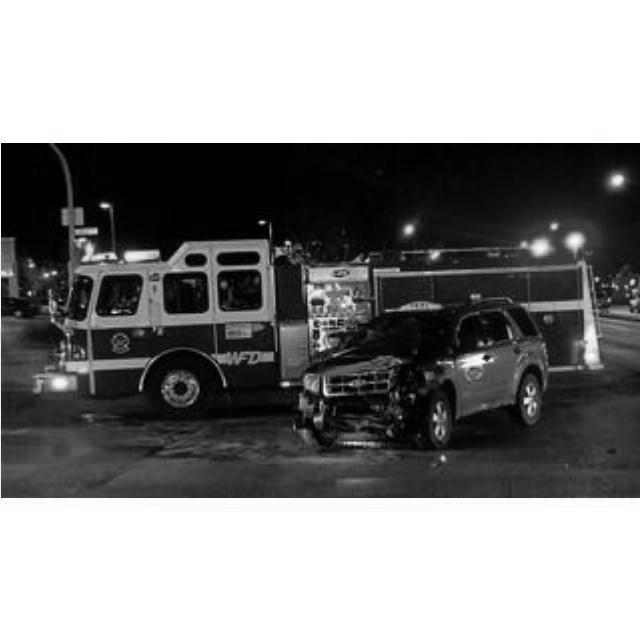front-bumper-dent: (324, 387, 392, 423)
